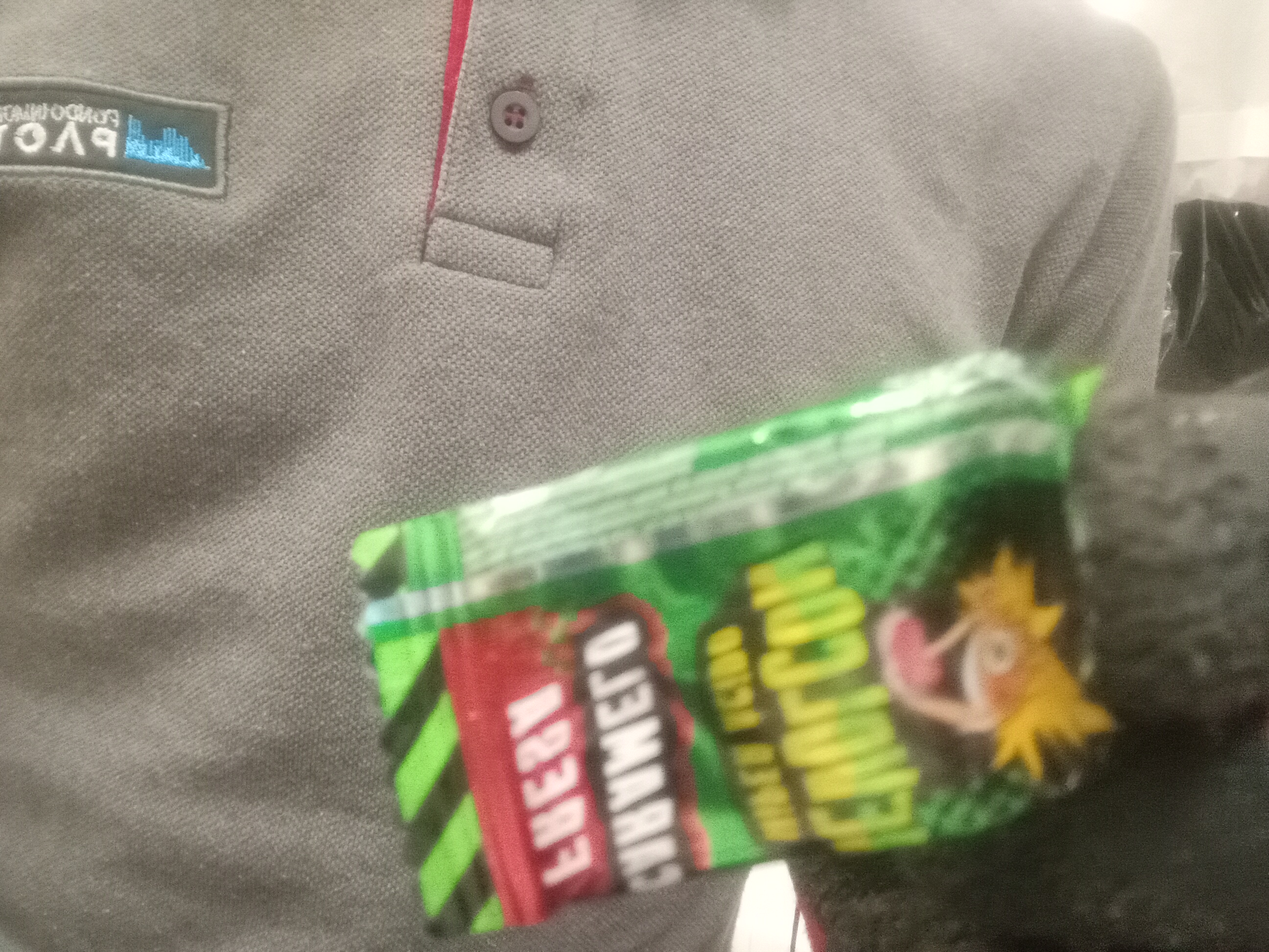Ordinario: (346, 347, 1122, 940)
